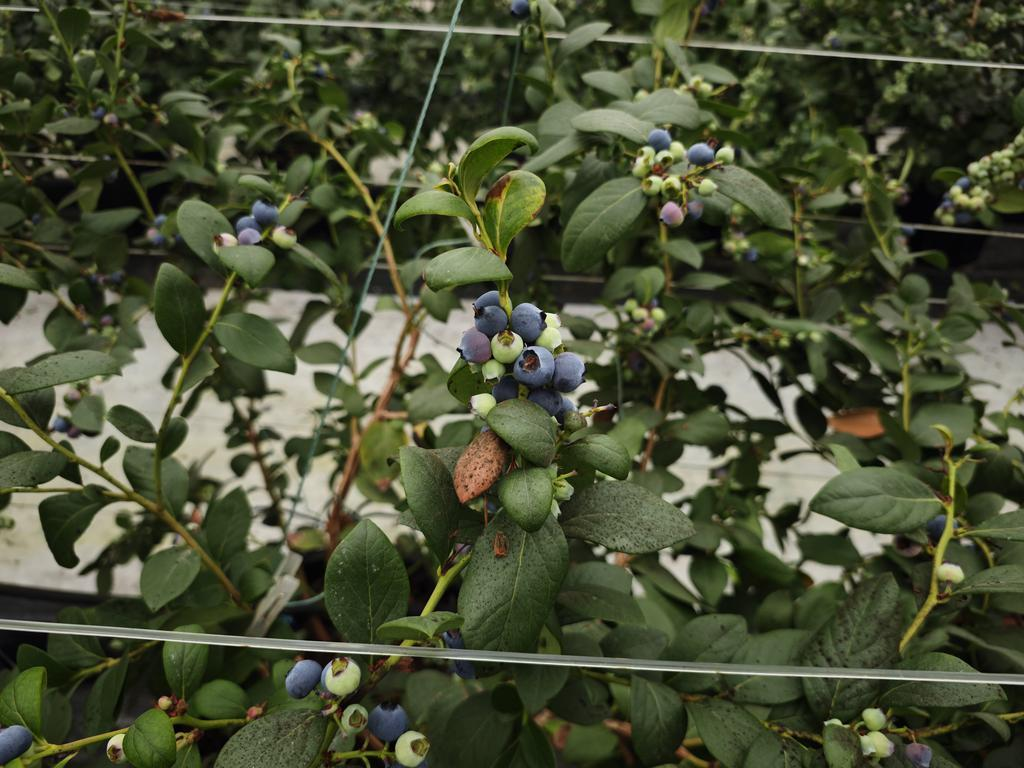RipeBlueBerry: (513, 345, 556, 389), (367, 699, 408, 742), (284, 658, 322, 701), (509, 301, 547, 343), (554, 350, 587, 394)
Semi-RipeBlueBerry: (459, 328, 491, 365)
UnripeBlueBerry: (323, 655, 362, 696), (394, 730, 433, 768), (490, 329, 524, 363)
